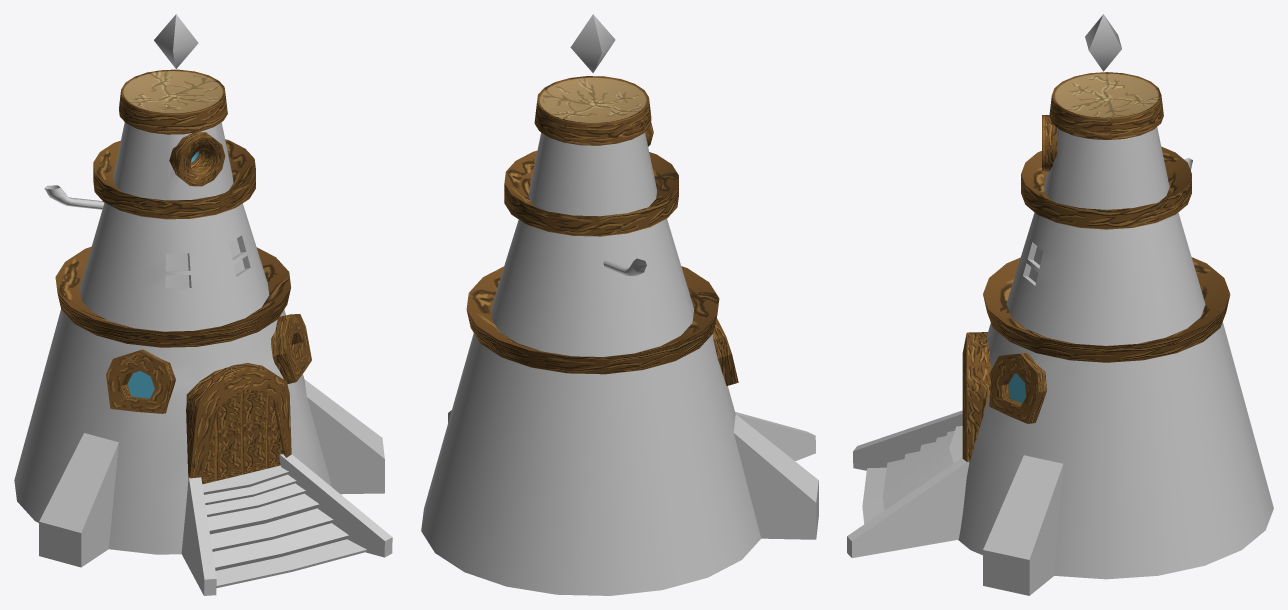
Rendered from Tower.fbx.
3 renders of one model, left to right at view 1: azimuth 30°, elevation 25°; view 2: azimuth 150°, elevation 25°; view 3: azimuth 270°, elevation 25°, orthographic. The views are drawn at different scales.
Visible parts, largest first — view 1: StoneMesh, WoodenMesh; view 2: StoneMesh, WoodenMesh; view 3: StoneMesh, WoodenMesh.
Boxes of the visible parts, x1,y1,x2,y2 form: StoneMesh: (14, 14, 392, 595); WoodenMesh: (55, 69, 311, 484); StoneMesh: (421, 14, 818, 595); WoodenMesh: (466, 76, 738, 385); StoneMesh: (847, 14, 1273, 595); WoodenMesh: (962, 72, 1230, 462).
Bounding box in the file's own units: 10.43 × 13.78 × 10.76.
